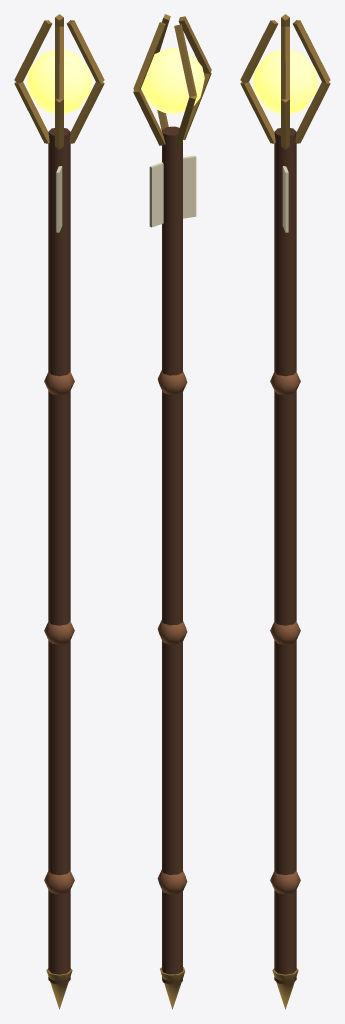
Rendered from staff.glb.
The picture shows the model from 3 angles, left to right: view 1: azimuth 90°, elevation 25°; view 2: azimuth 210°, elevation 25°; view 3: azimuth 270°, elevation 25°; orthographic projection.
Parts seen in each view (by area): view 1: Sword; view 2: Sword; view 3: Sword.
Boxes of the visible parts, <box> form: Sword: <box>14,14,104,1009</box>; Sword: <box>133,14,211,1009</box>; Sword: <box>240,14,330,1009</box>.
Bounding box in the file's own units: 0.1645 × 1.98 × 0.1645.
